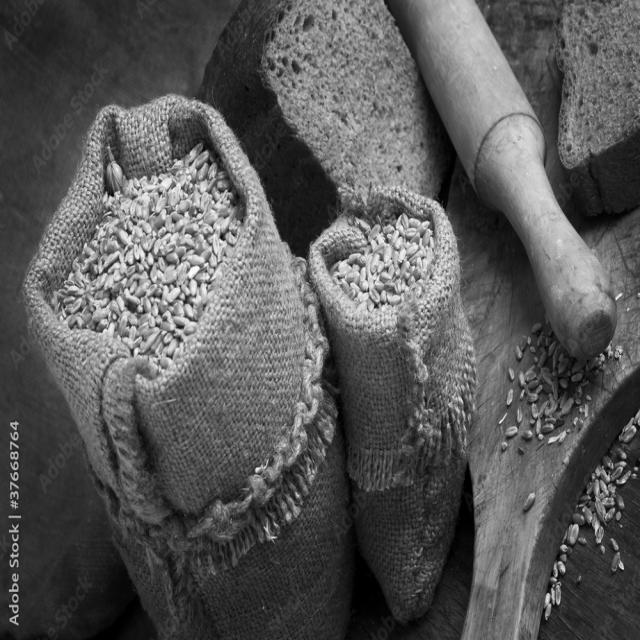sack: (23, 92, 350, 640), (308, 184, 477, 624)
